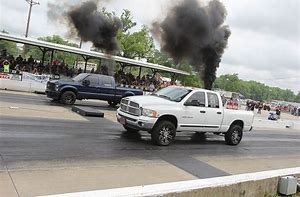smoke: (149, 1, 234, 89), (47, 1, 122, 74)
